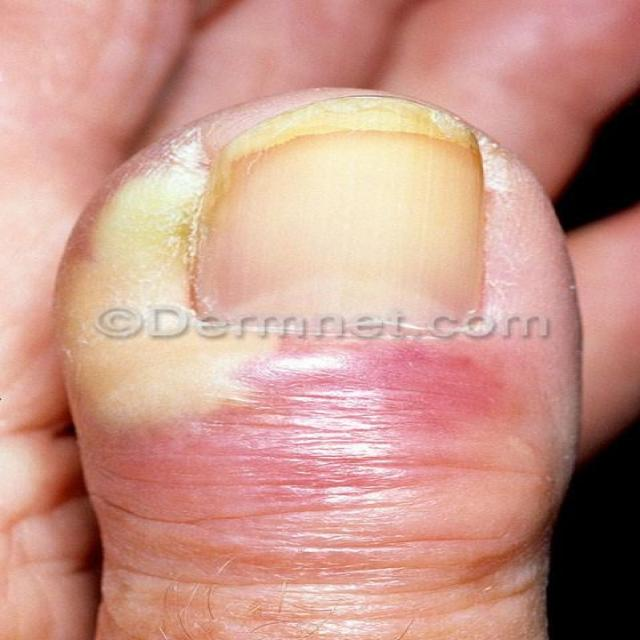Nail: (195, 100, 487, 328)
